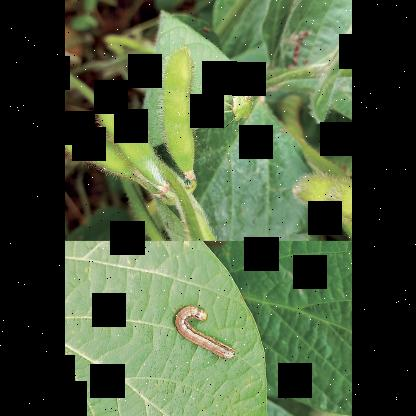oruga: (174, 304, 240, 368)
